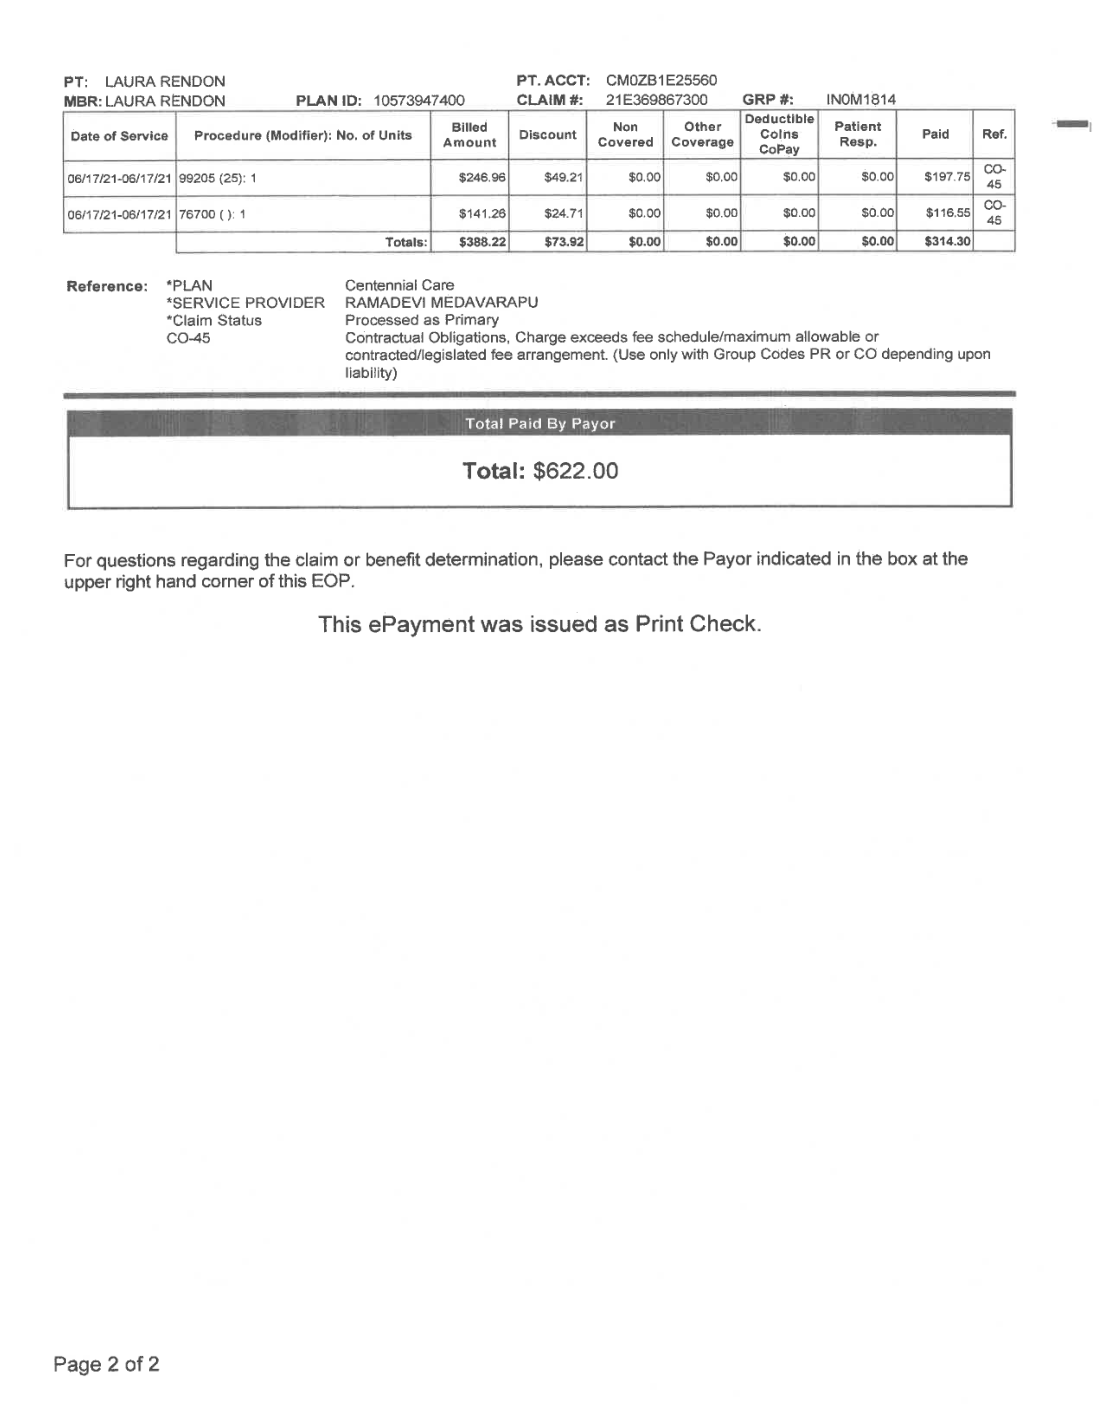table: (54, 68, 1022, 256)
